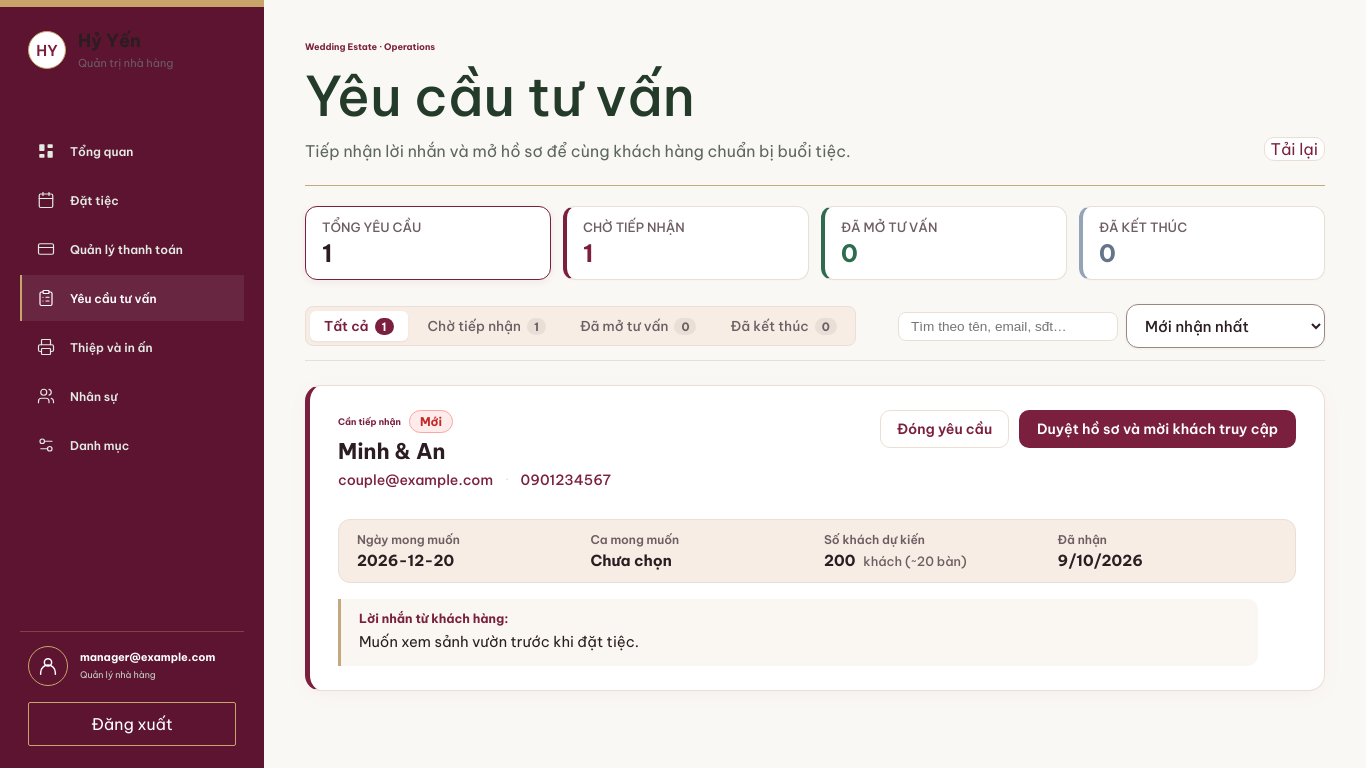
Test case: Consultation navigation › opens one consultation and refreshes the request into a booking hand-off
What coordinates should you click on to do the following:
click the button with aria-label "Mở hồ sơ tư vấn"
I would click on:
 (1158, 429)
Its box is left=1019, top=410, right=1296, bottom=448.
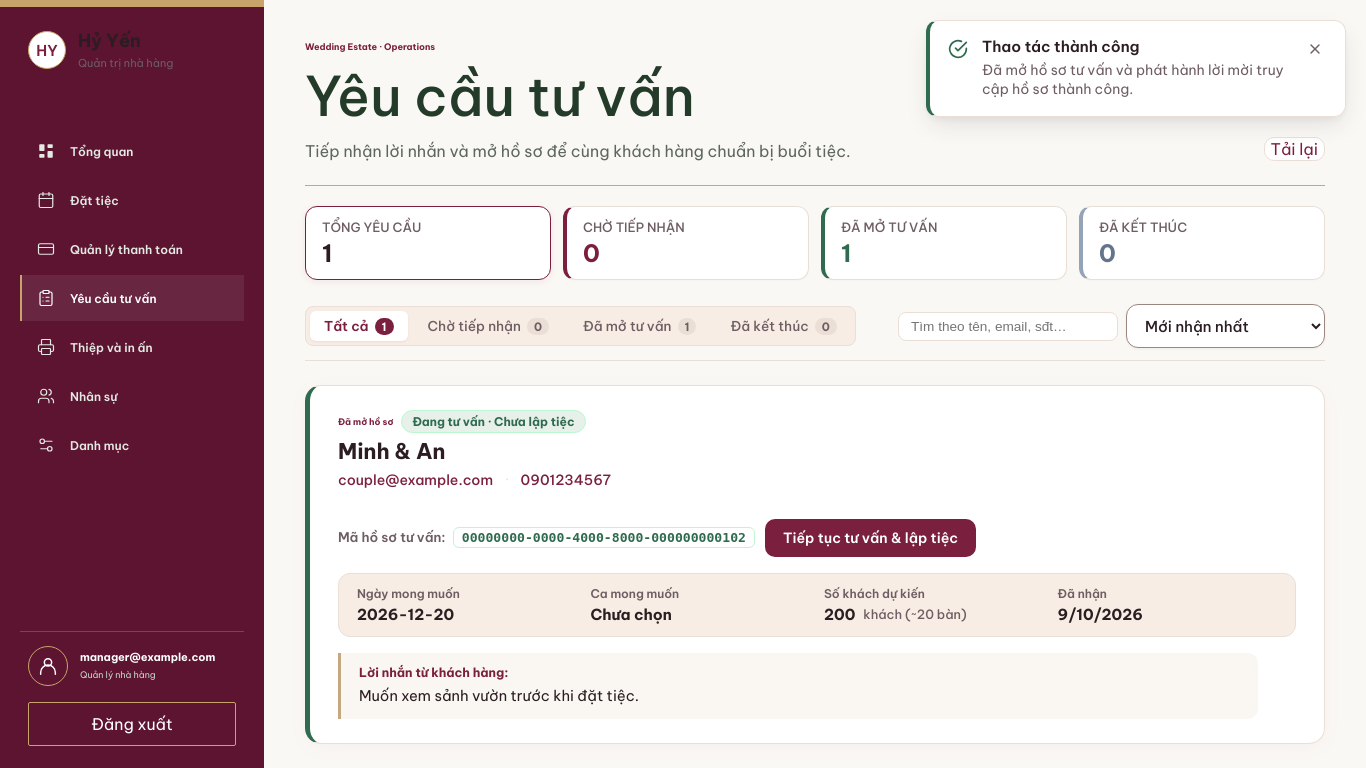
Now the message shows "Đã mở hồ sơ tư vấn", box left=982, top=61, right=1284, bottom=98
